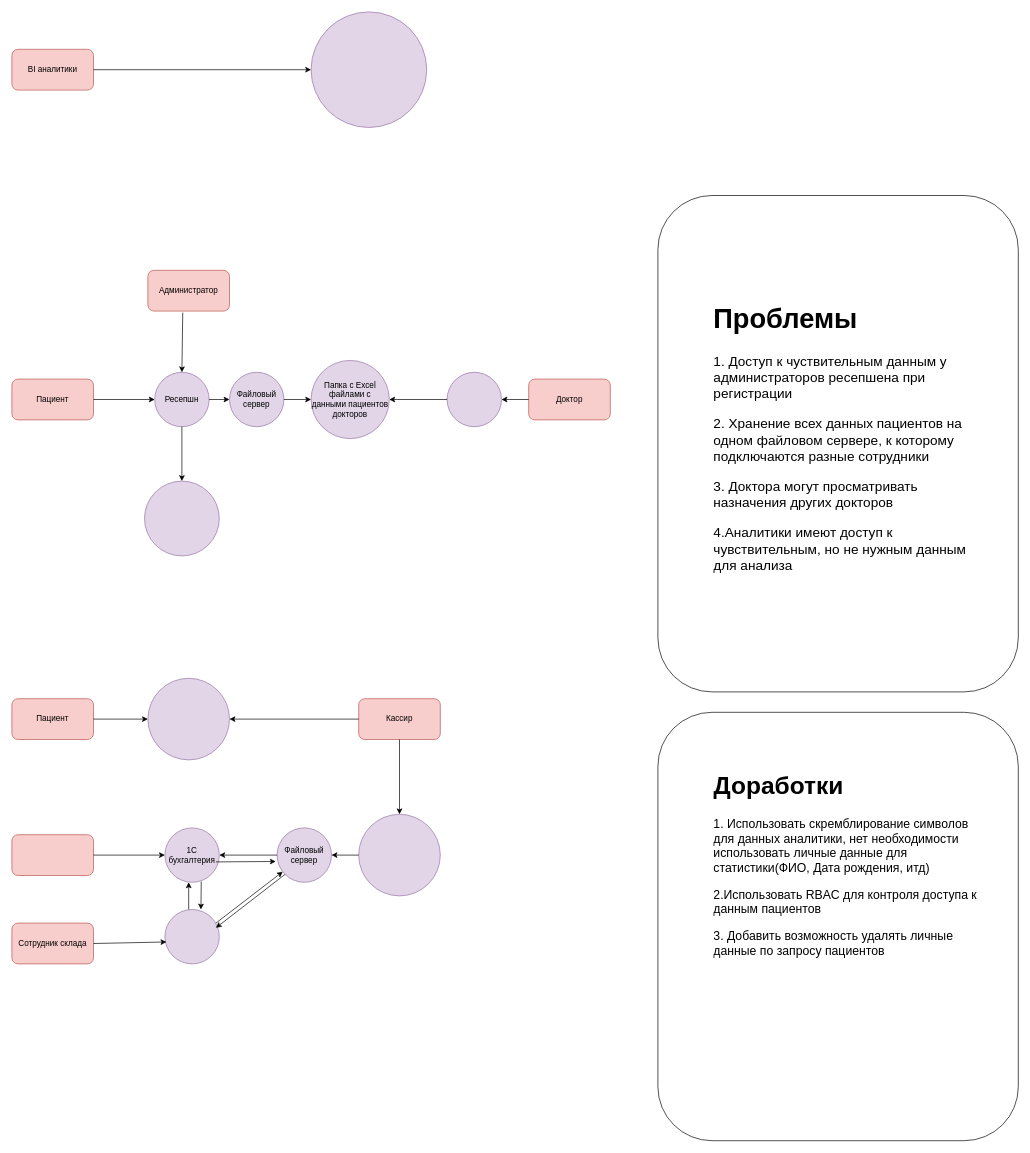
The diagram is 1030 pixels wide and 1153 high, and some of its shapes have lost their labels. The shapes that lost their labels are listed below. From the top down, each one's box as (x1, y1, x2, y2) in pixels, then its label:
(310, 11, 427, 128): Папка с Excel файлами данных пациентов
(446, 372, 502, 427): Excel файл с данными пациента
(144, 480, 219, 556): Регистрация в Excel файлах
(147, 678, 230, 760): Касса
(11, 834, 94, 876): Бухгалтер
(358, 814, 440, 896): ККМ
(164, 909, 219, 964): 1С торговля и склад
